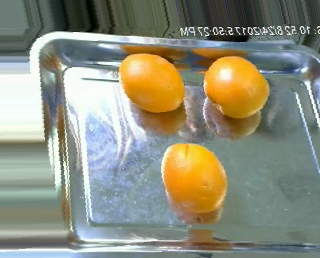Orange: (160, 142, 228, 212), (203, 55, 271, 118), (118, 51, 185, 111)
